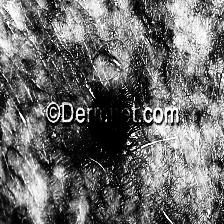Potentially Malignant Skin Tumors: (91, 129, 134, 149), (89, 90, 129, 106)
